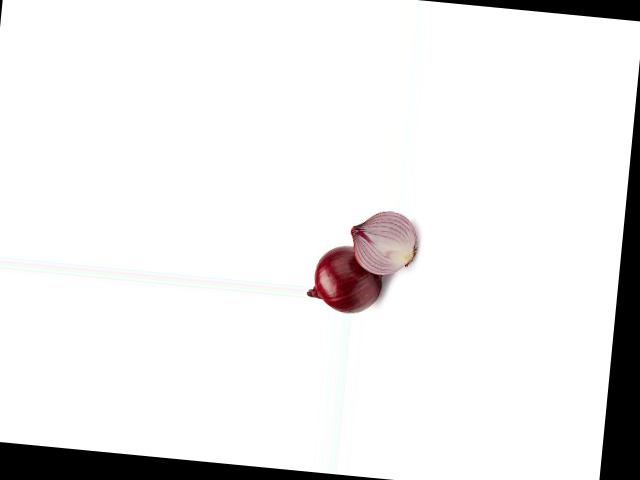onion: (346, 209, 418, 273)
